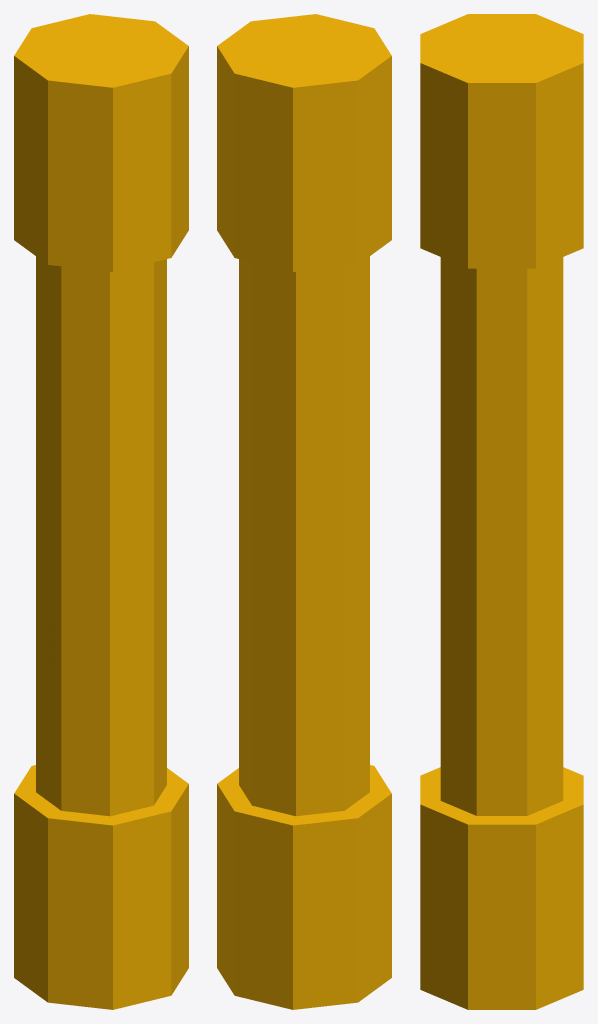
File: mpe_hinge_a.dae
The picture shows the model from 3 angles, left to right: view 1: azimuth 30°, elevation 25°; view 2: azimuth 150°, elevation 25°; view 3: azimuth 270°, elevation 25°; orthographic projection.
Visible parts, largest first — view 1: robotic_edge_pivot_a; view 2: robotic_edge_pivot_a; view 3: robotic_edge_pivot_a.
Boxes of the visible parts, box(x1,y1,x2,y2) form: robotic_edge_pivot_a: box(14, 14, 188, 1009); robotic_edge_pivot_a: box(217, 14, 391, 1009); robotic_edge_pivot_a: box(420, 14, 583, 1009).
Bounding box in the file's own units: 0.04 × 0.04 × 0.25.
